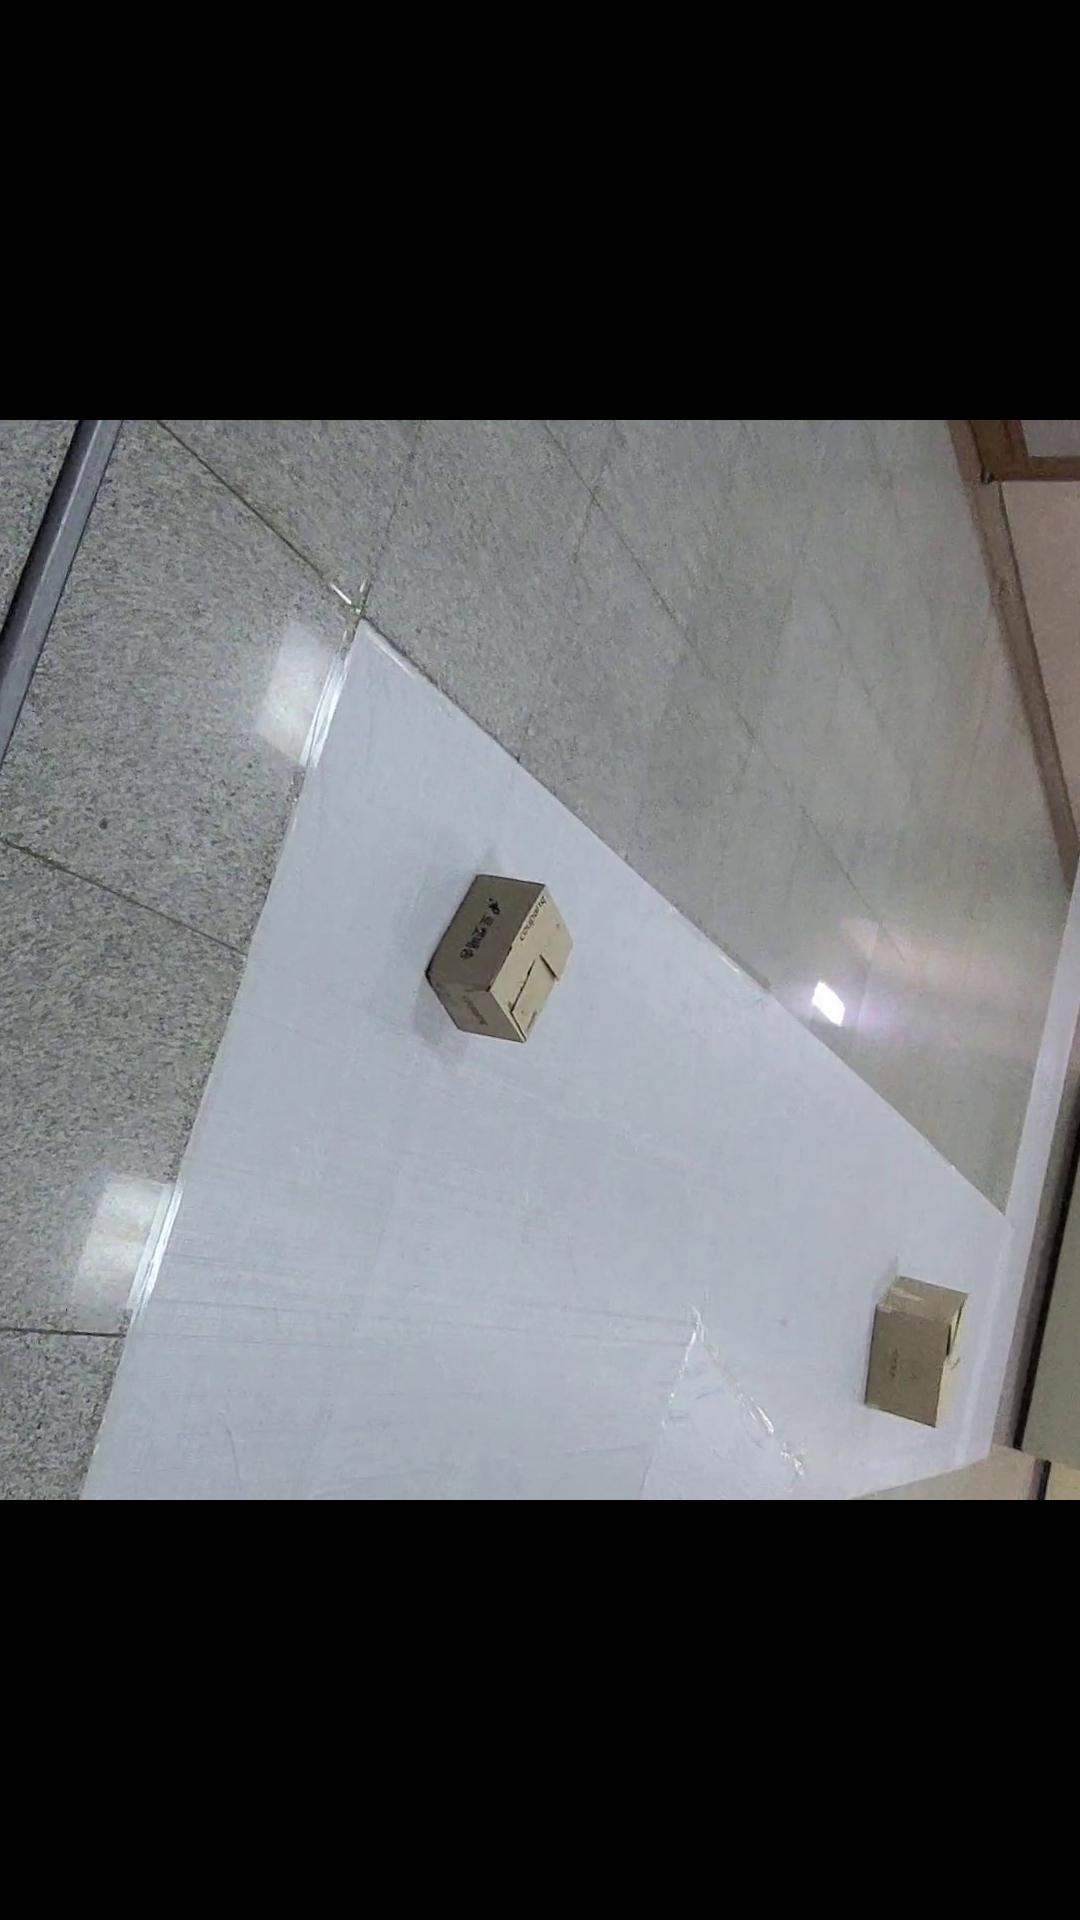Box: (808, 1168, 1021, 1484), (397, 823, 612, 1106)
